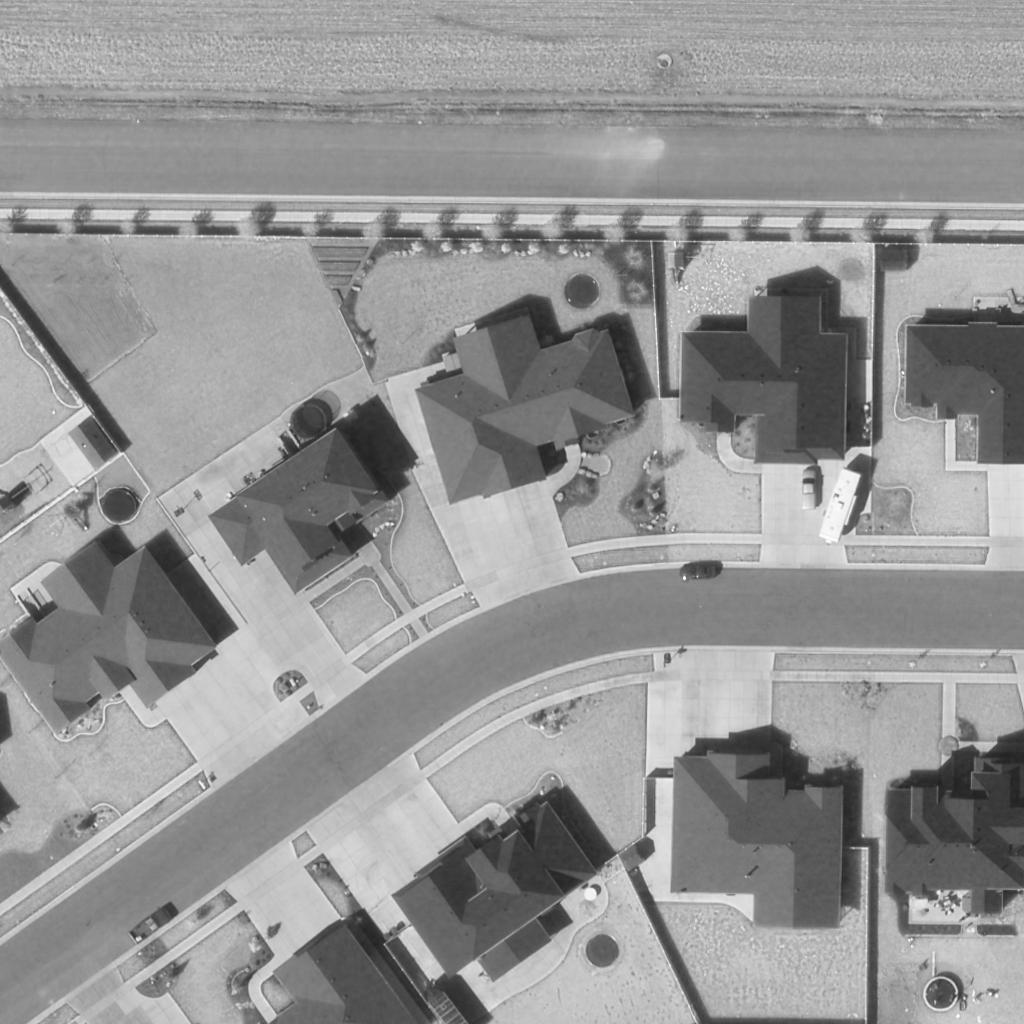vehicle: (814, 465, 868, 547), (126, 904, 176, 952), (677, 561, 721, 581), (802, 467, 818, 513)
